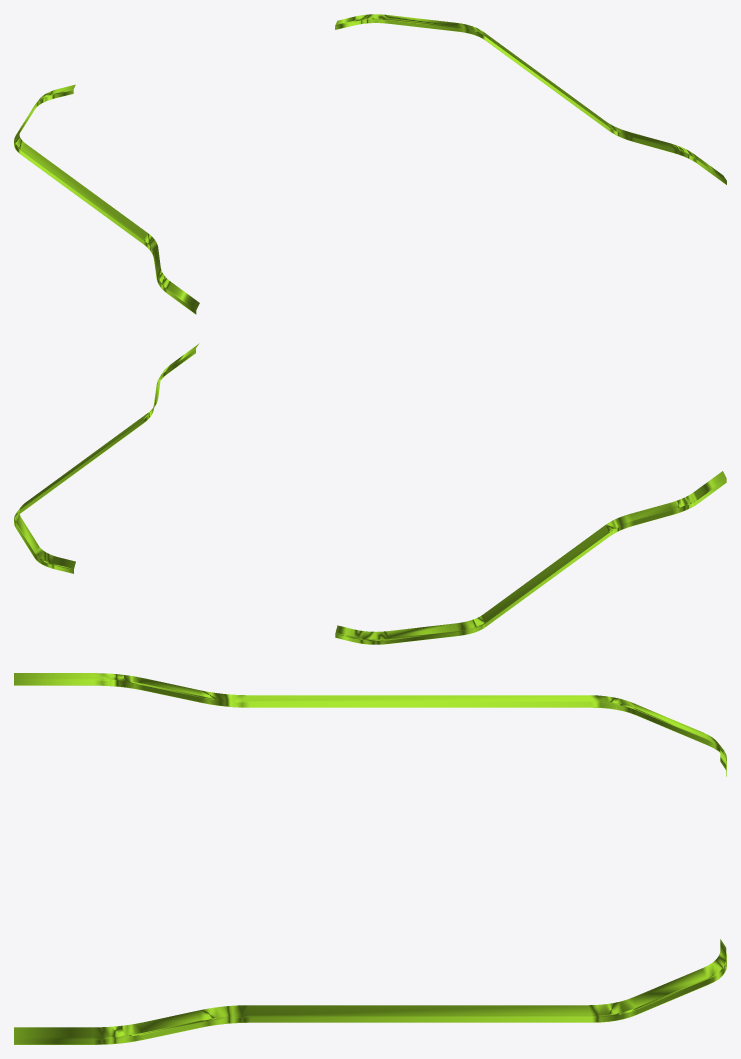
File: plate_64_cap_b_trim_railing_a.glb
The picture shows the model from 3 angles, top to bottom: view 1: azimuth 30°, elevation 25°; view 2: azimuth 150°, elevation 25°; view 3: azimuth 270°, elevation 25°; orthographic projection. The views are drawn at different scales.
Bounding box in the file's own units: 65 × 1.25 × 54.49.
